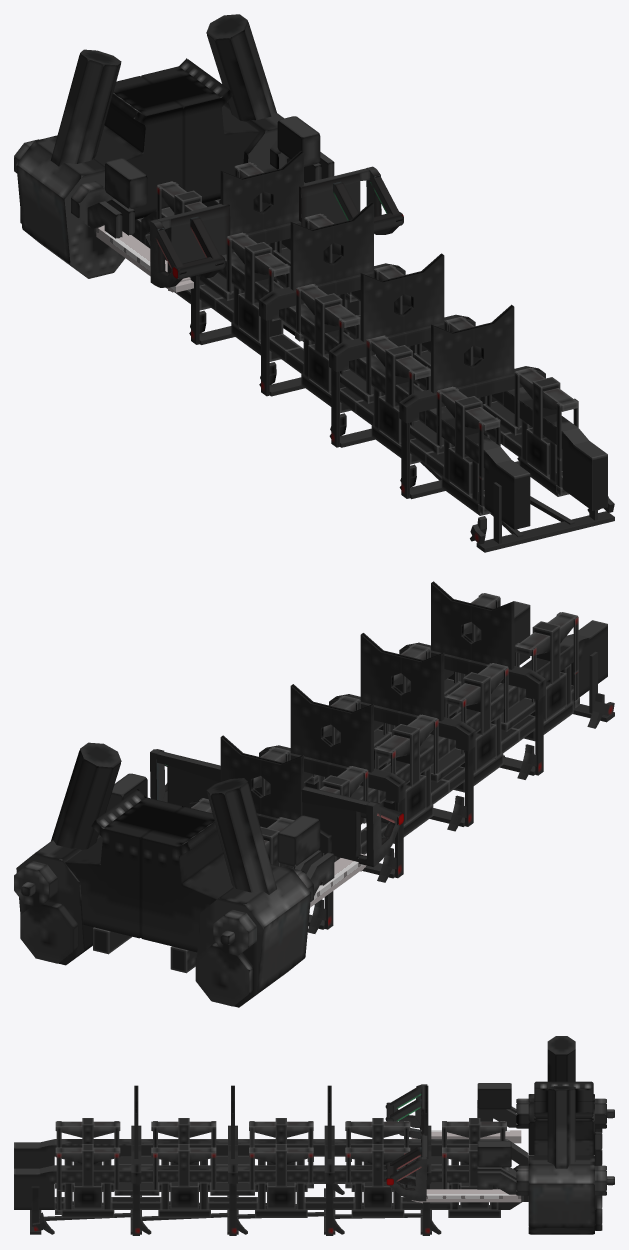
File: qj_bogey_frame.obj
3 views of the same model, one above another, from view 1: azimuth 30°, elevation 25°; view 2: azimuth 150°, elevation 25°; view 3: azimuth 270°, elevation 25° (orthographic). The views are drawn at different scales.
Parts seen in each view (by area): view 1: cuboid; view 2: cuboid; view 3: cuboid.
Part boxes in pixels (x1,y1,x2,y2): cuboid: (14,14,614,552); cuboid: (14,581,614,1007); cuboid: (14,1036,614,1235).
Bounding box in the file's own units: 3.25 × 2.76 × 9.95.
